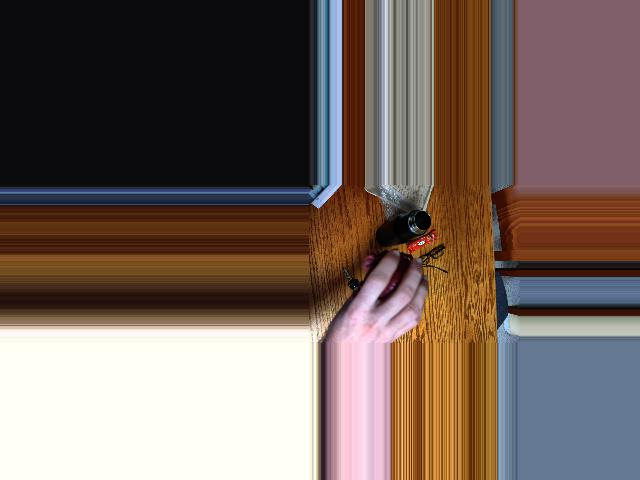onion: (357, 261, 415, 310)
